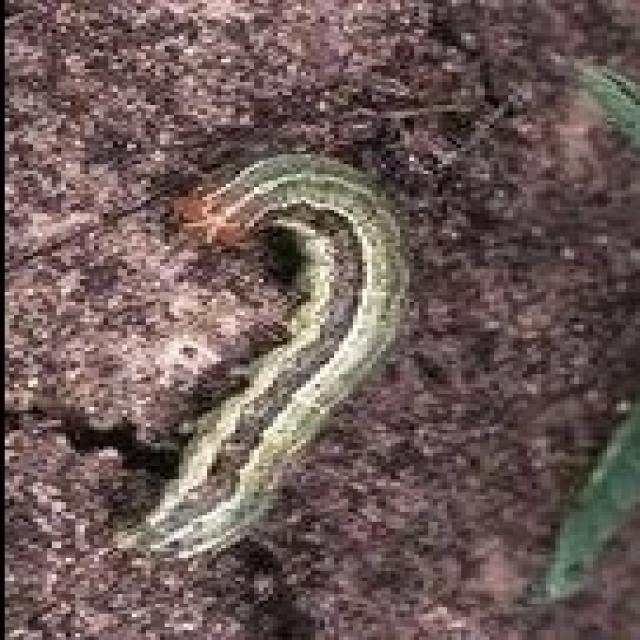army worm: (119, 136, 429, 569)
